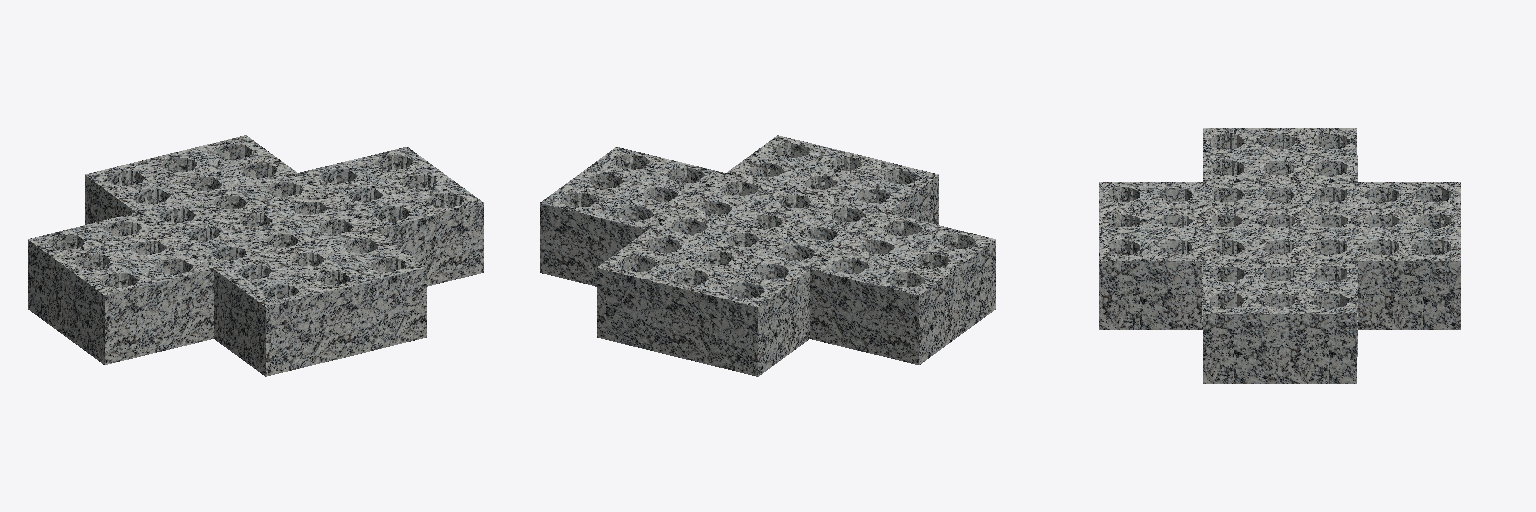
The picture shows the model from 3 angles: view 1: azimuth 30°, elevation 25°; view 2: azimuth 150°, elevation 25°; view 3: azimuth 270°, elevation 25°; orthographic projection.
Parts seen in each view (by area): view 1: Base_Cube; view 2: Base_Cube; view 3: Base_Cube.
Boxes of the visible parts, x1,y1,x2,y2 form: Base_Cube: [28, 135, 483, 376]; Base_Cube: [540, 135, 995, 376]; Base_Cube: [1099, 128, 1460, 383].
Size of the model in its own units: 9.31 by 1.64 by 7.7.
1 materials, 1 textured.